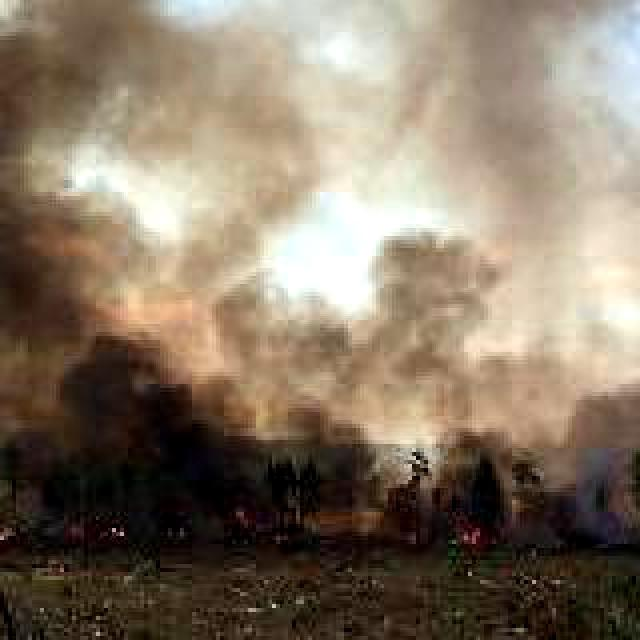smoke: (0, 0, 400, 540), (404, 0, 640, 490)
